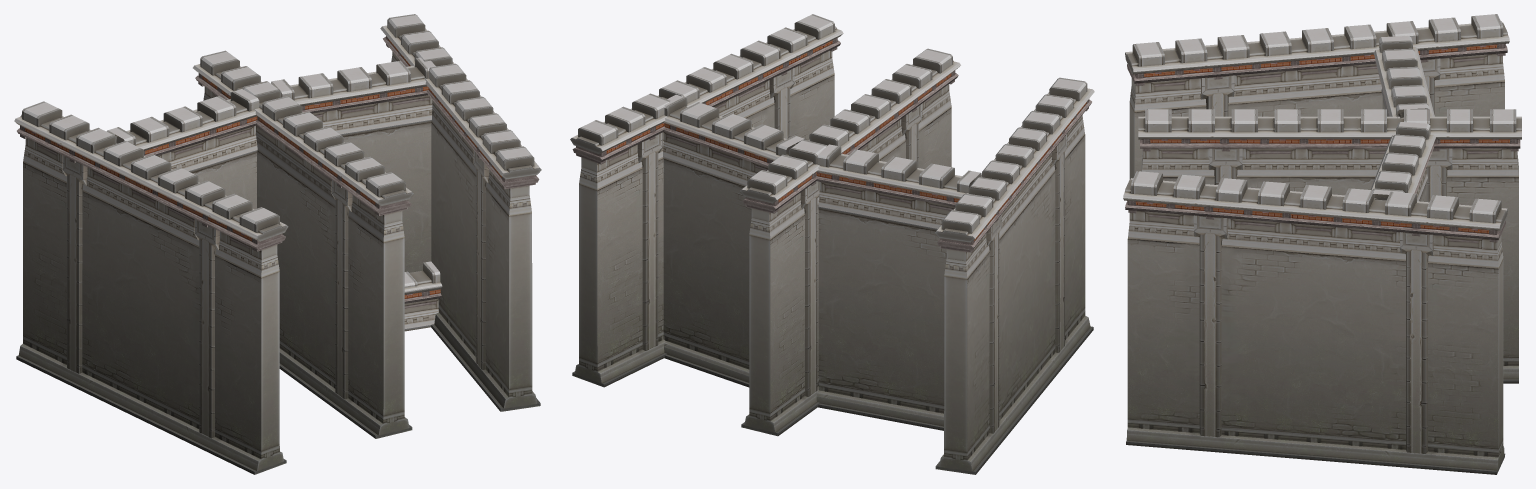
File: mod_zlc_jianzhu045_xy.FBX
3 views of the same model, side by side, from view 1: azimuth 30°, elevation 25°; view 2: azimuth 150°, elevation 25°; view 3: azimuth 270°, elevation 25° (orthographic). The views are drawn at different scales.
Visible parts, largest first — view 1: mod_zlc_jianzhu045_xy; view 2: mod_zlc_jianzhu045_xy; view 3: mod_zlc_jianzhu045_xy.
Part boxes in pixels (left/top/right/bottom): mod_zlc_jianzhu045_xy: left=14, top=14, right=541, bottom=474; mod_zlc_jianzhu045_xy: left=570, top=14, right=1094, bottom=474; mod_zlc_jianzhu045_xy: left=1123, top=14, right=1521, bottom=474.
Size of the model in its own units: 4427 by 2603 by 3620.
1 material, 1 textured.
